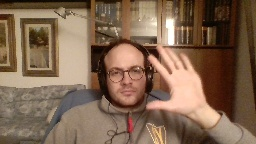Mano_aperta: (143, 42, 206, 116)
